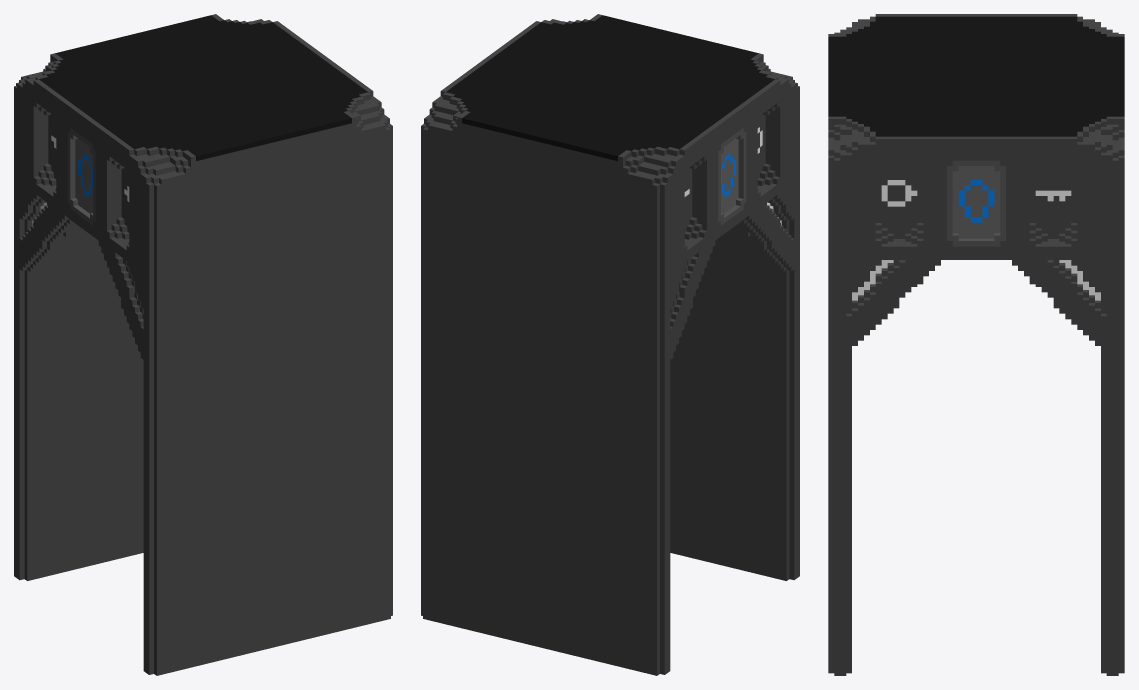
Rendered from 128синняя руна дверь открыта.obj.
The picture shows the model from 3 angles, left to right: view 1: azimuth 30°, elevation 25°; view 2: azimuth 150°, elevation 25°; view 3: azimuth 270°, elevation 25°; orthographic projection. The views are drawn at different scales.
Size of the model in its own units: 5 by 10 by 5.
Materials: 1 (1 with a texture image).
